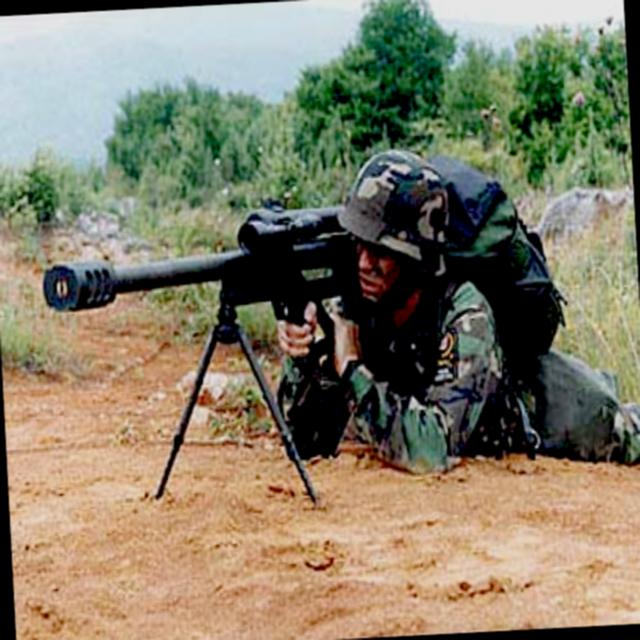rifle: (32, 192, 362, 340)
